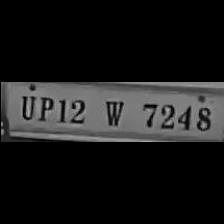1: (52, 94, 66, 124)
2: (64, 94, 89, 125), (156, 100, 176, 130)
4: (174, 101, 192, 131)
7: (134, 99, 158, 129)
8: (193, 104, 211, 132)
P: (33, 94, 53, 122)
U: (15, 92, 35, 122)
W: (97, 96, 129, 128)
